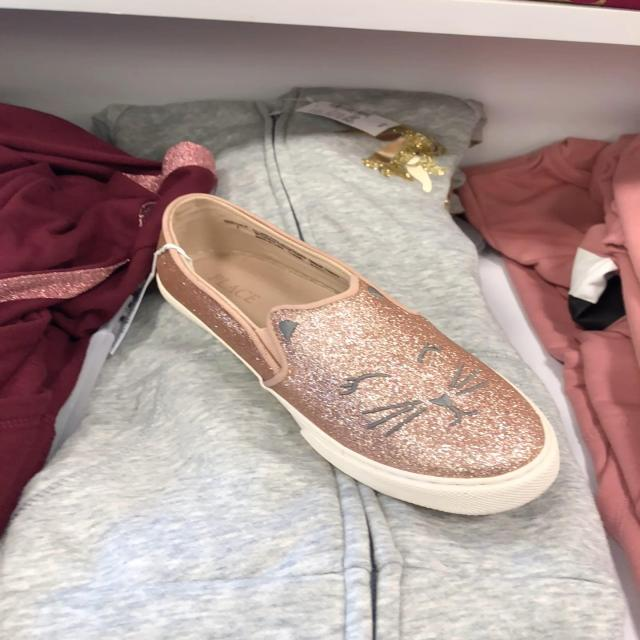shoe: (152, 194, 561, 519)
